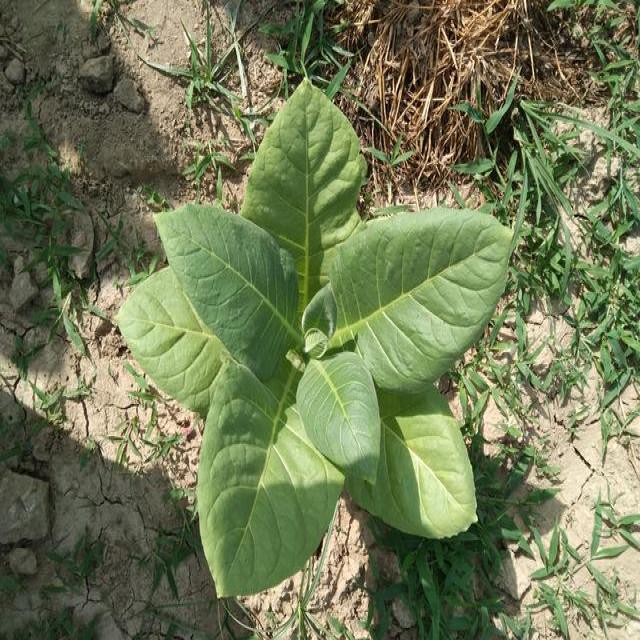crop: (113, 70, 520, 604)
